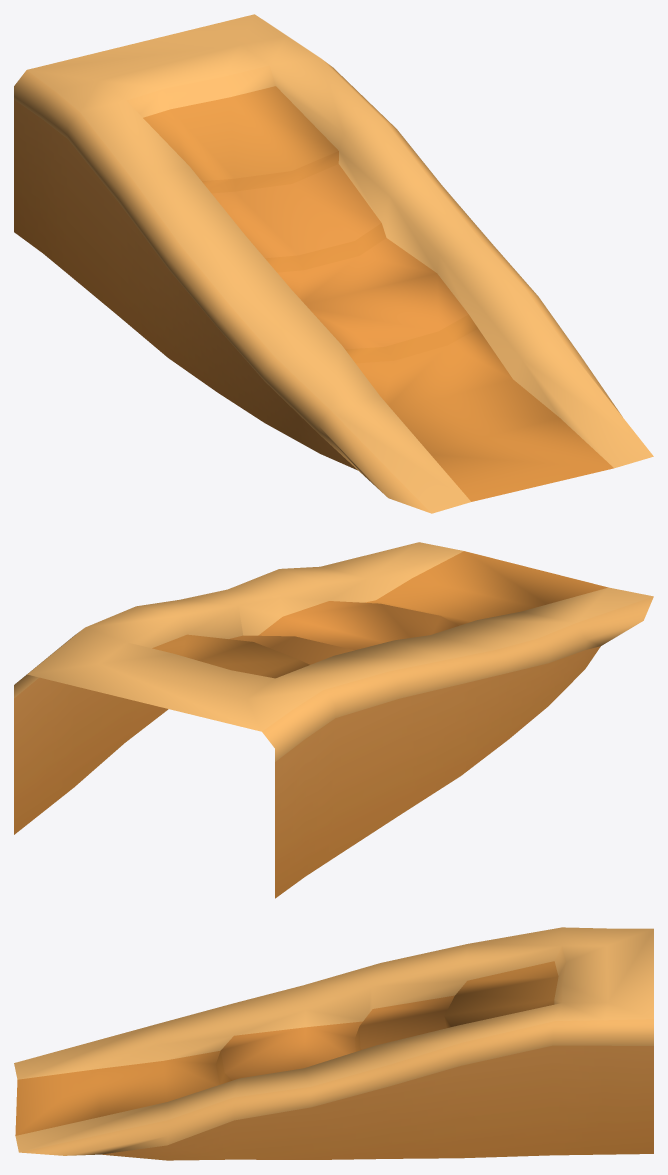
File: Straight Stairs 01.FBX
The picture shows the model from 3 angles, top to bottom: view 1: azimuth 30°, elevation 25°; view 2: azimuth 150°, elevation 25°; view 3: azimuth 270°, elevation 25°; orthographic projection. The views are drawn at different scales.
Parts seen in each view (by area): view 1: Straight Stairs 01; view 2: Straight Stairs 01; view 3: Straight Stairs 01.
Boxes of the visible parts, x1,y1,x2,y2 form: Straight Stairs 01: [14, 14, 653, 513]; Straight Stairs 01: [14, 542, 653, 898]; Straight Stairs 01: [14, 927, 653, 1160].
Bounding box in the file's own units: 559 × 300 × 1343.
Materials: 1 (1 with a texture image).
